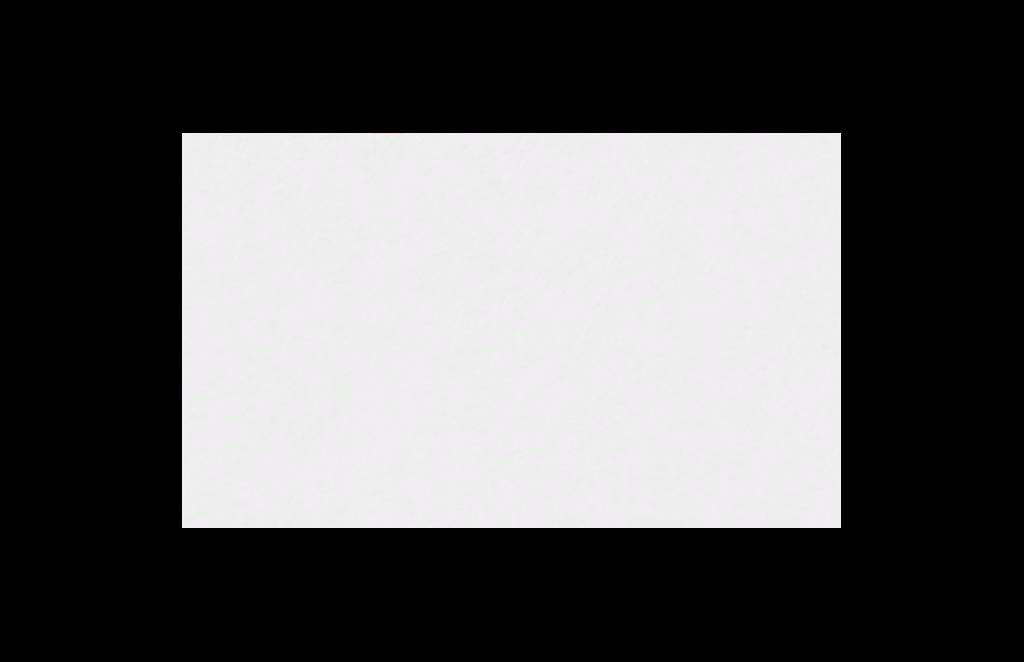connected_station: (456, 134, 594, 158)
line_endpoint: (328, 134, 440, 148)
